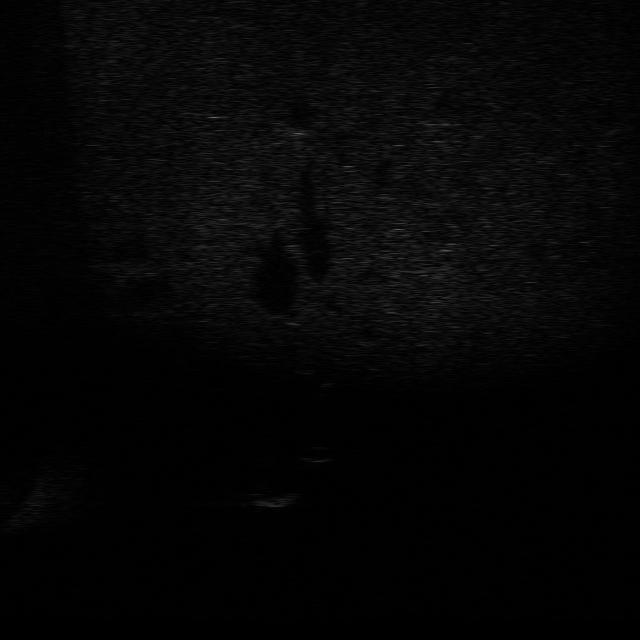ball: (295, 443, 340, 467)
human body: (294, 344, 335, 405)
square cage: (238, 483, 302, 513)
